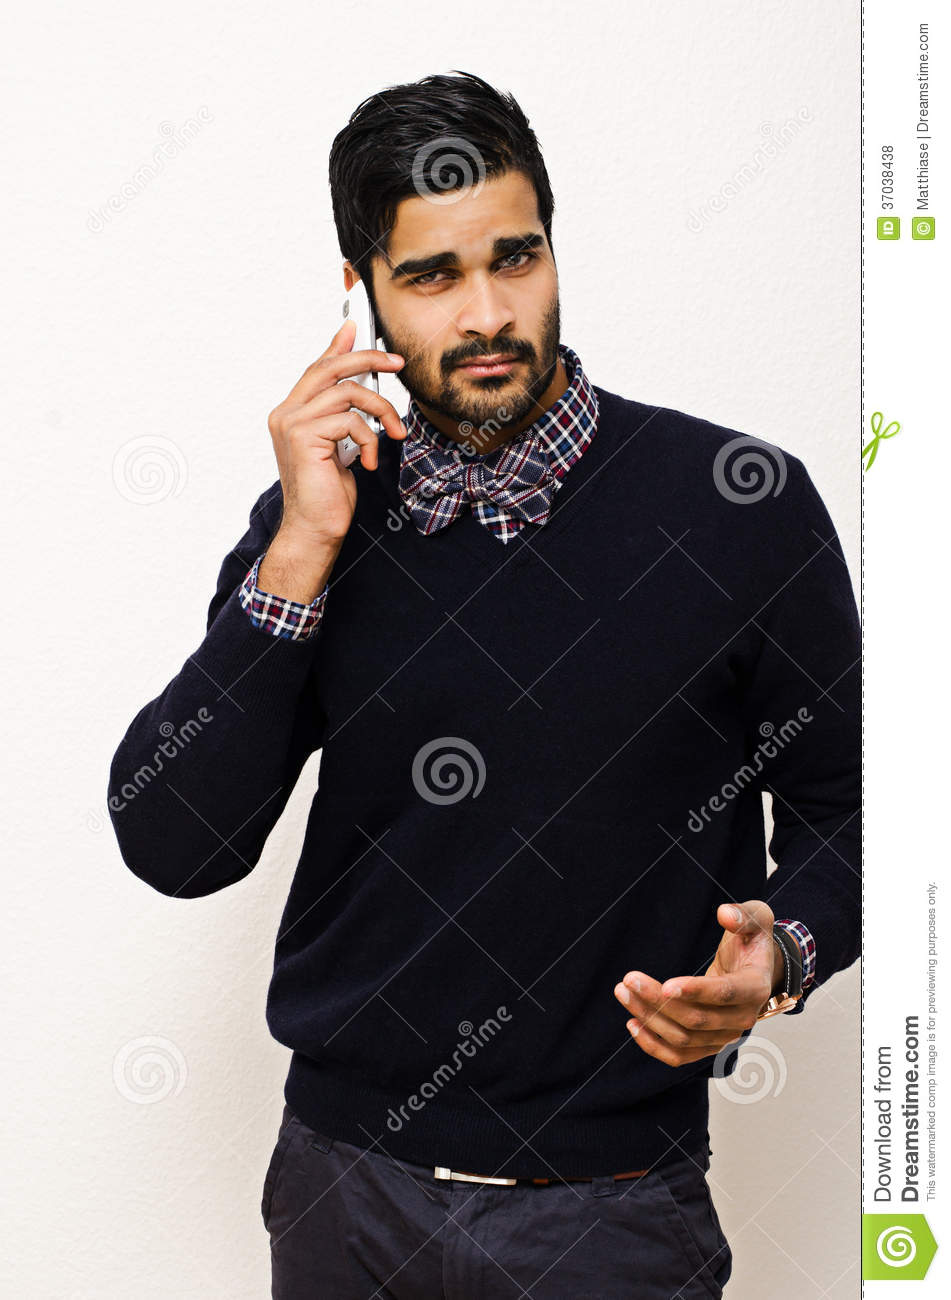phone: (317, 281, 398, 472)
talk: (271, 211, 564, 572)
